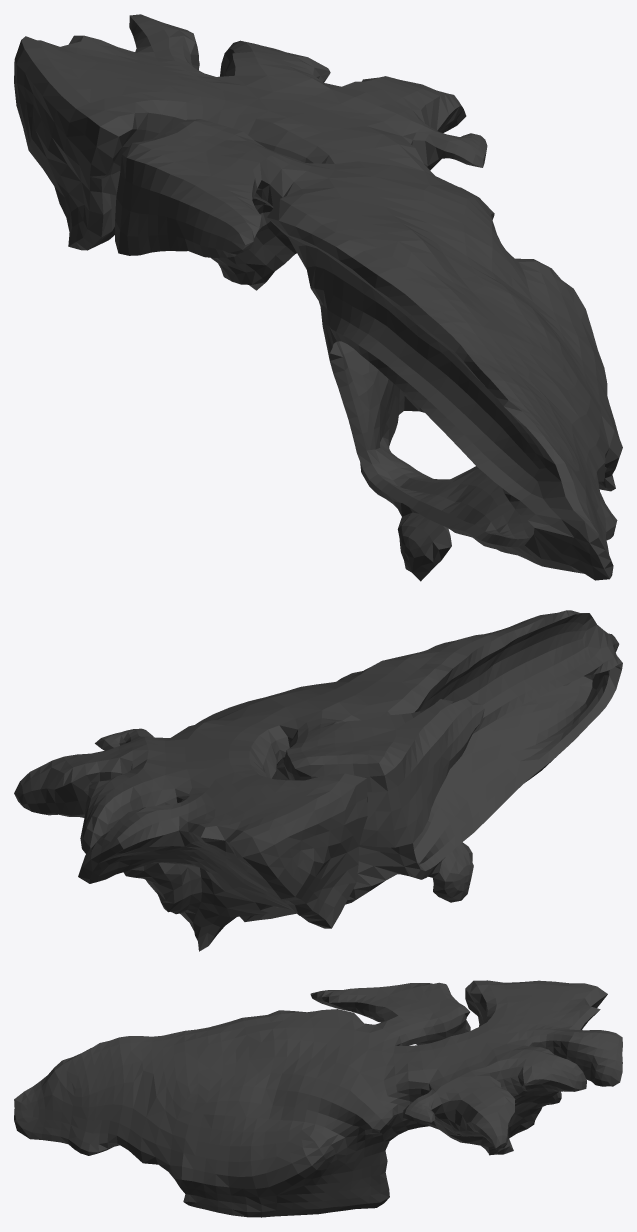
The model's file is L_frontal_sinus.glb.
3 views of the same model, one above another, from view 1: azimuth 30°, elevation 25°; view 2: azimuth 150°, elevation 25°; view 3: azimuth 270°, elevation 25° (orthographic). The views are drawn at different scales.
Parts seen in each view (by area): view 1: L_frontal_sinus; view 2: L_frontal_sinus; view 3: L_frontal_sinus.
Part boxes in pixels (x1,y1,x2,y2): L_frontal_sinus: [14, 14, 622, 581]; L_frontal_sinus: [14, 610, 622, 951]; L_frontal_sinus: [14, 980, 622, 1217].
Bounding box in the file's own units: 75.9 × 59.08 × 169.
Materials: 1 (1 with a texture image).
